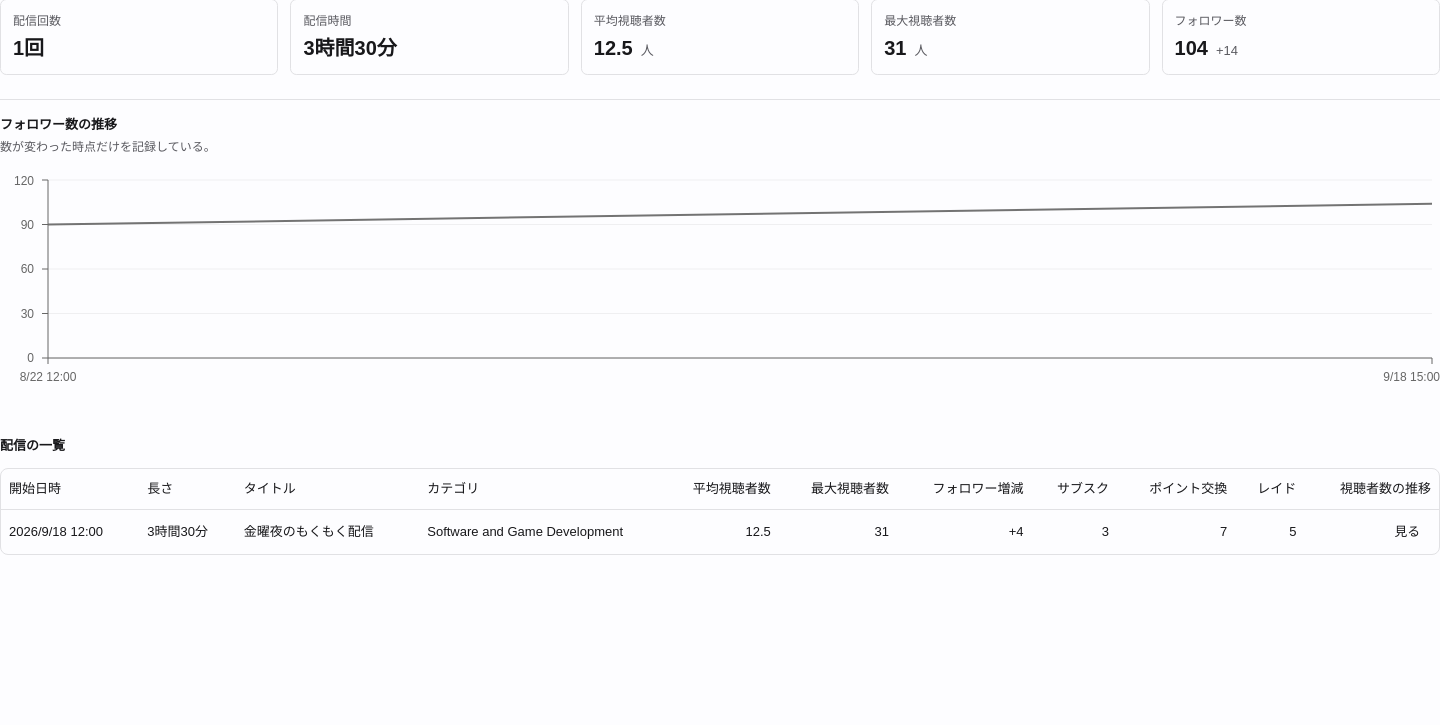
配信ごとの詳細（視聴者数の推移と話されたこと） › 誰も作業を宣言しなかった配信では、作業時間を 0 ではなく「—」と出す
Expected: the table named "配信の一覧" is shown, [1,469,1439,554]
Click the button with aria-label "金曜夜のもくもく配信 の詳細を見る" at {"x": 1407, "y": 532}, box [1383,518,1431,546]
(page scrolled)
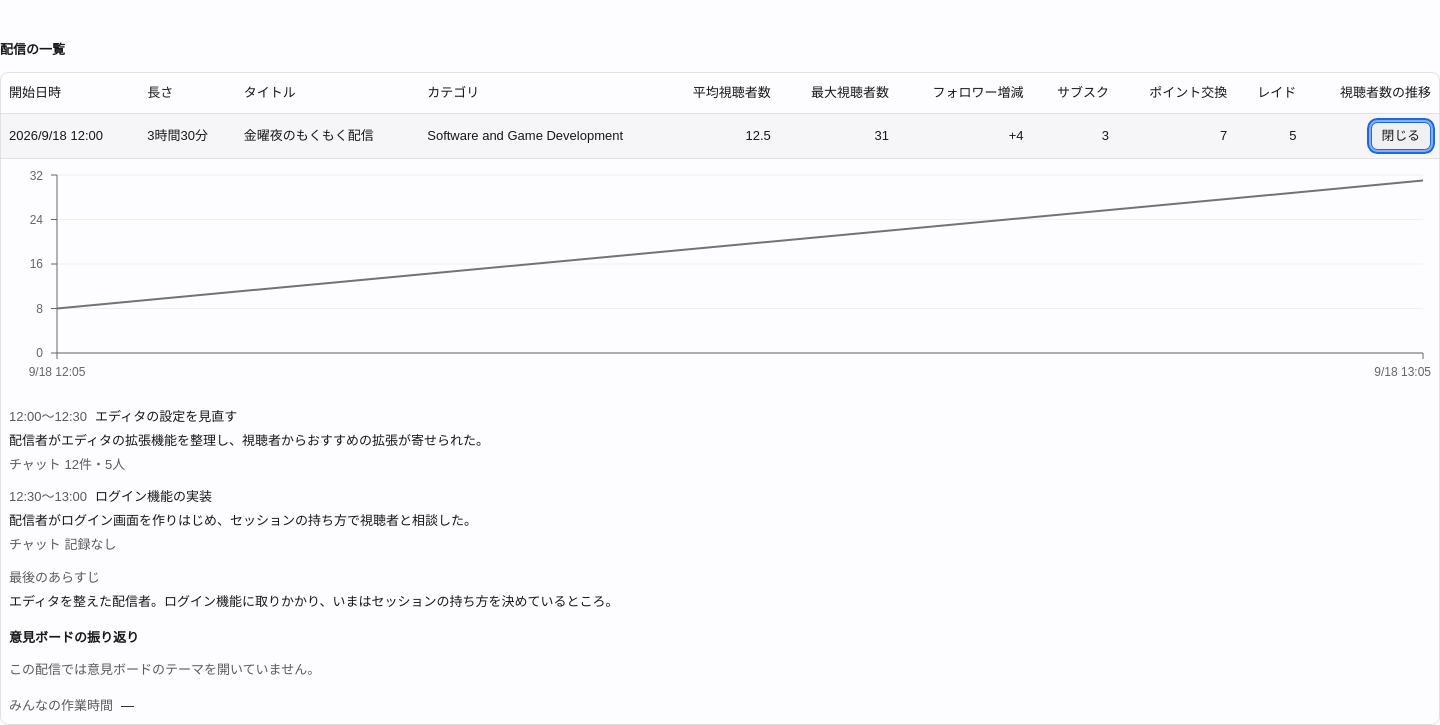
Expected: the element "みんなの作業時間" shows "—", [121,698,134,713]
